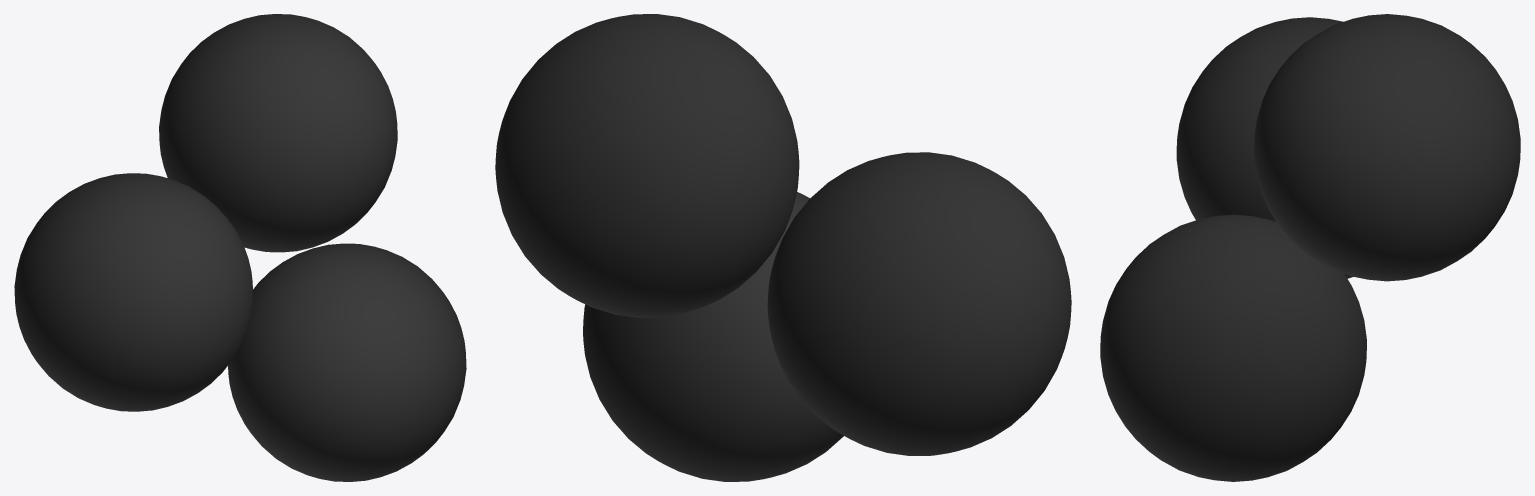
Rendered from solid_state_qn_017.glb.
3 renders of one model, left to right at view 1: azimuth 30°, elevation 25°; view 2: azimuth 150°, elevation 25°; view 3: azimuth 270°, elevation 25°, orthographic. The views are drawn at different scales.
Visible parts, largest first — view 1: Icosphere.002, Icosphere.001, Icosphere; view 2: Icosphere, Icosphere.002, Icosphere.001; view 3: Icosphere, Icosphere.001, Icosphere.002.
Part boxes in pixels (left/top/right/bottom): Icosphere.002: left=14, top=173, right=253, bottom=411; Icosphere.001: left=228, top=243, right=466, bottom=481; Icosphere: left=159, top=14, right=397, bottom=252; Icosphere: left=495, top=14, right=799, bottom=317; Icosphere.002: left=767, top=152, right=1071, bottom=455; Icosphere.001: left=583, top=192, right=843, bottom=481; Icosphere: left=1254, top=14, right=1520, bottom=281; Icosphere.001: left=1100, top=214, right=1366, bottom=481; Icosphere.002: left=1176, top=17, right=1352, bottom=278.
Size of the model in its own units: 3.73 by 3.65 by 3.15.
3 materials, 3 textured.
